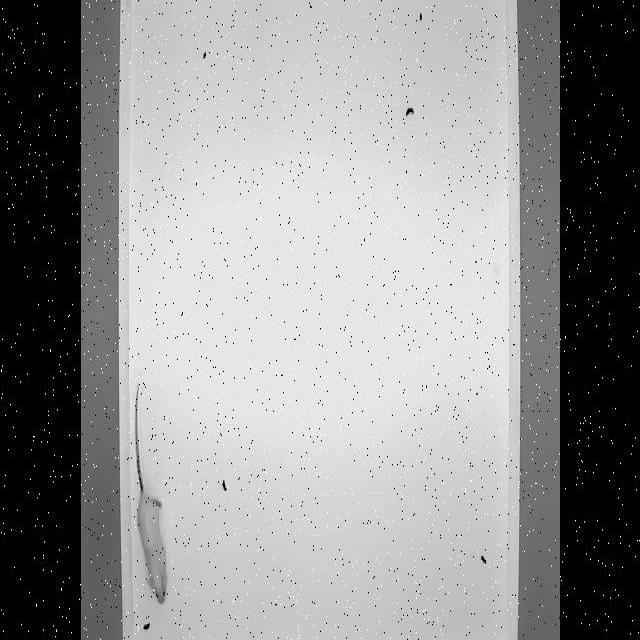rat: (130, 381, 170, 609)
